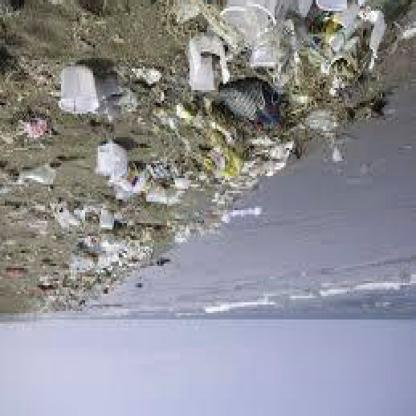Plastic: (187, 37, 233, 90), (220, 1, 280, 41), (58, 62, 100, 115), (96, 138, 130, 179)
